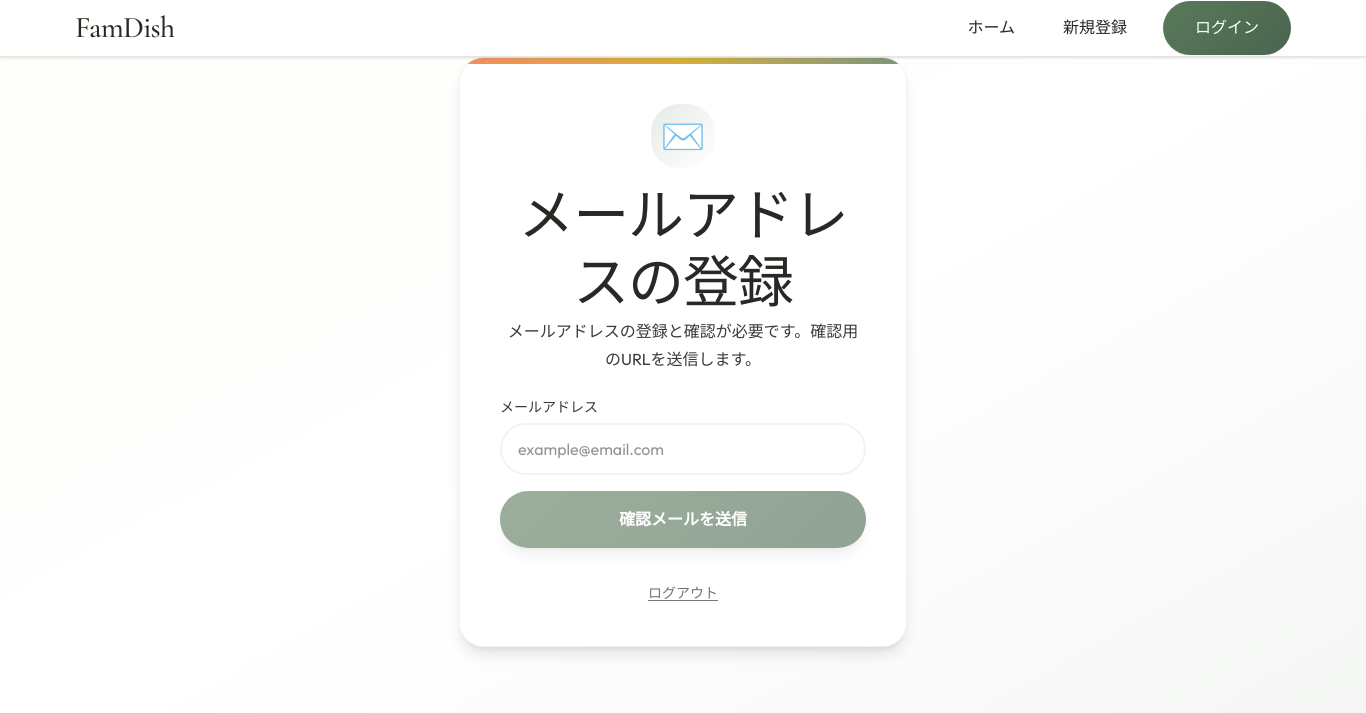
Test: RegisterEmailPage › email-already-in-useエラーで確認ダイアログが表示される
Type "existing@example.com" into the field labelled "メールアドレス" at (683, 449), box [500,423,866,475]
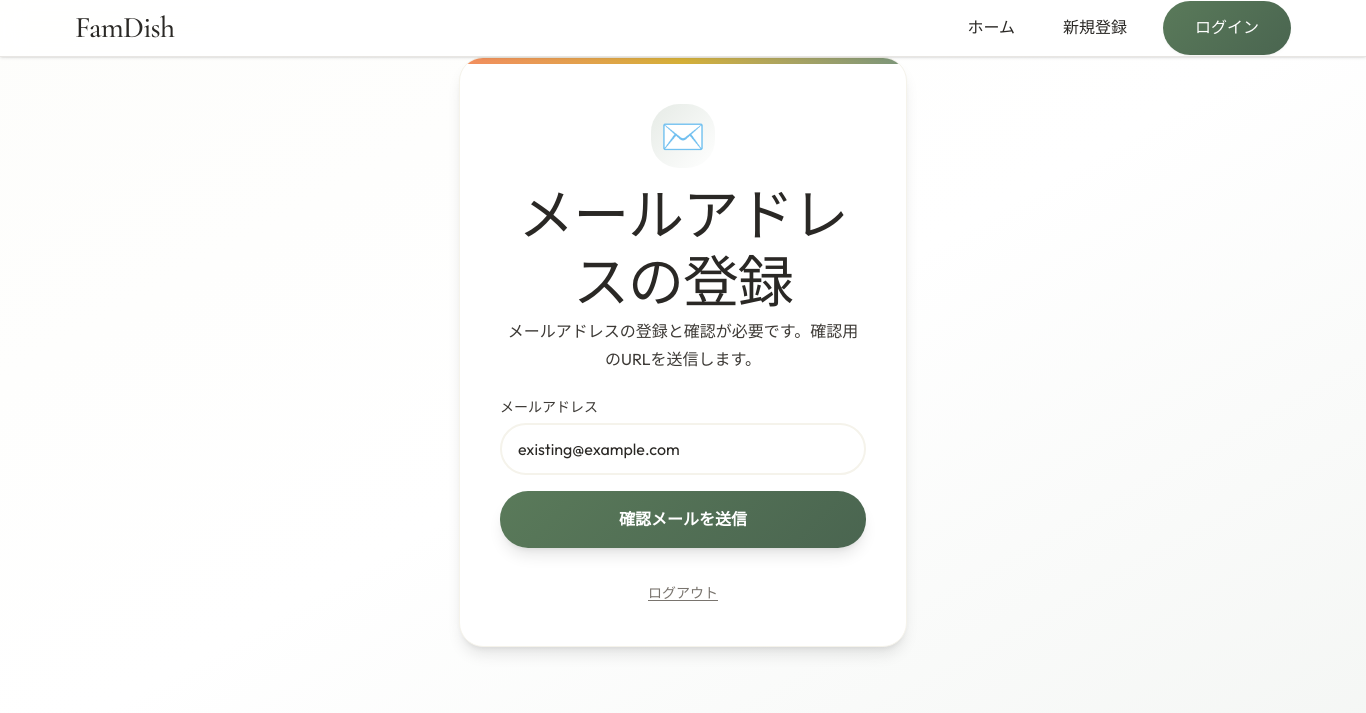
Submit the text "確認メールを送信", box [500,397,866,548]
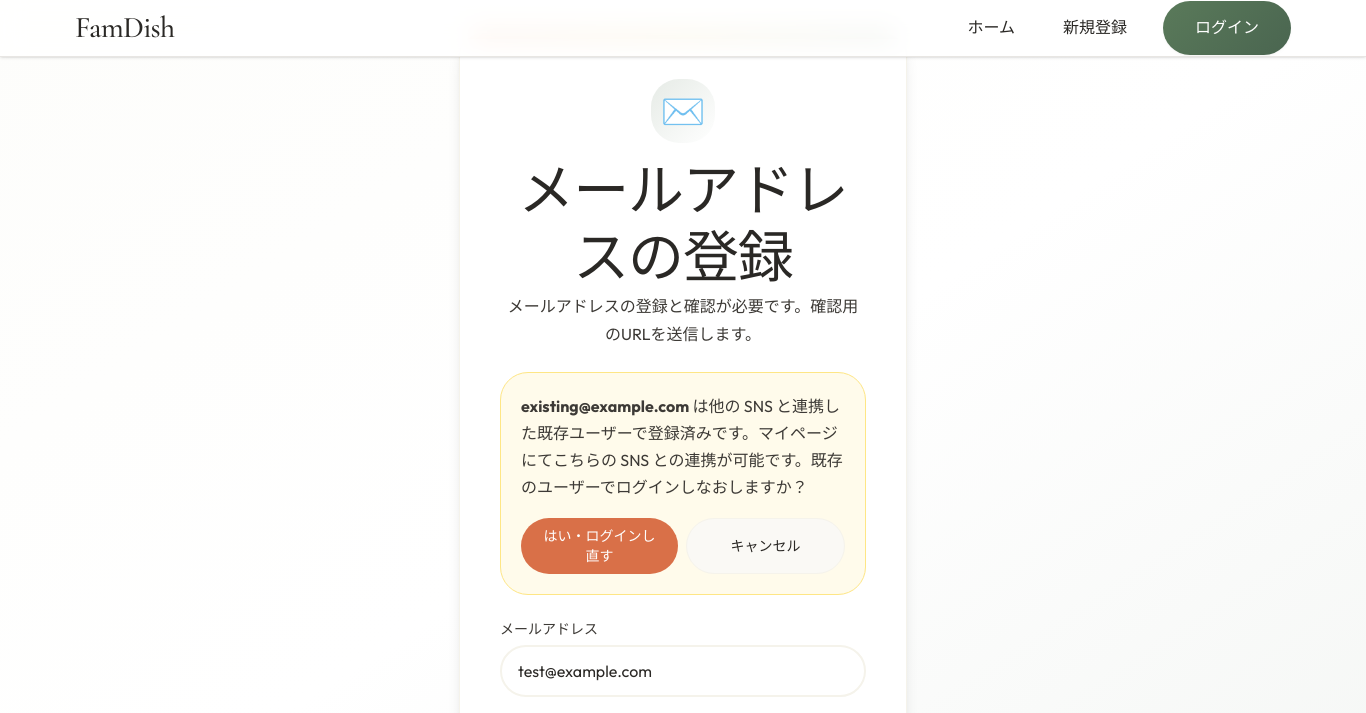
Expected: the button "はい・ログインし直す" is shown, [521,518,678,574]
